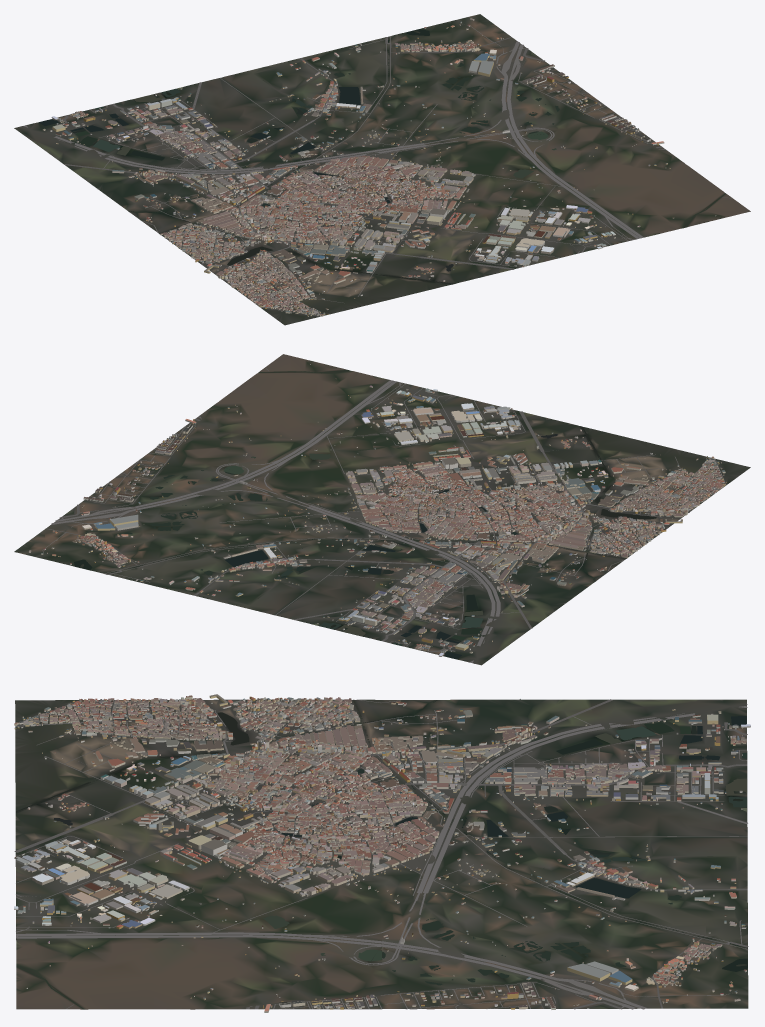
3 renders of one model, top to bottom at view 1: azimuth 30°, elevation 25°; view 2: azimuth 150°, elevation 25°; view 3: azimuth 270°, elevation 25°, orthographic. The views are drawn at different scales.
Visible parts, largest first — view 1: ground, buildings, roads, water; view 2: ground, buildings, roads, water; view 3: ground, buildings, roads, water.
Part boxes in pixels (x1=…): ground: x1=14, y1=14, x2=750, y2=325; buildings: x1=42, y1=18, x2=716, y2=316; roads: x1=20, y1=26, x2=732, y2=316; water: x1=39, y1=29, x2=725, y2=284; ground: x1=14, y1=354, x2=750, y2=665; buildings: x1=28, y1=364, x2=726, y2=656; roads: x1=42, y1=367, x2=726, y2=663; water: x1=74, y1=369, x2=656, y2=659; ground: x1=15, y1=699, x2=748, y2=1009; buildings: x1=14, y1=694, x2=750, y2=1012; roads: x1=14, y1=699, x2=748, y2=1009; water: x1=16, y1=699, x2=747, y2=1009.
Bounding box in the file's own units: 2866 × 35.34 × 2823.
